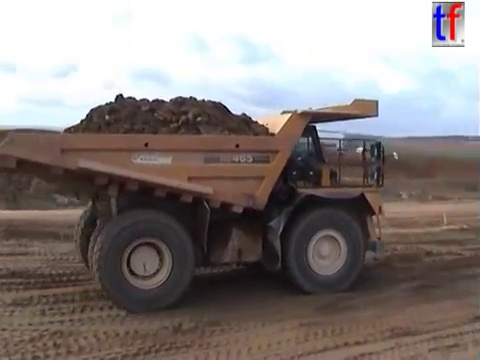truck: (1, 95, 401, 317)
